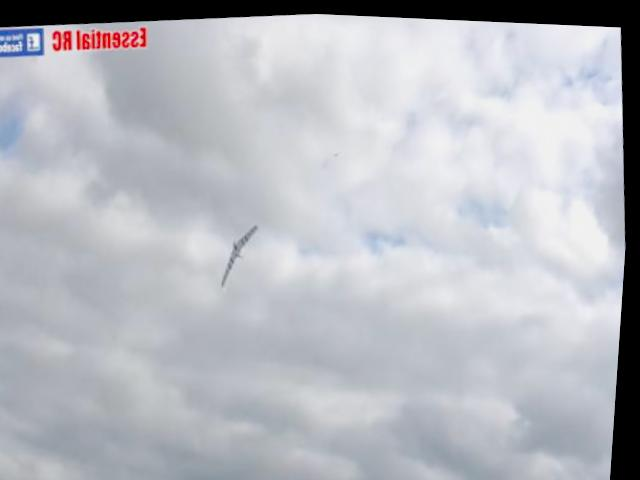flying wing: (215, 209, 268, 296)
